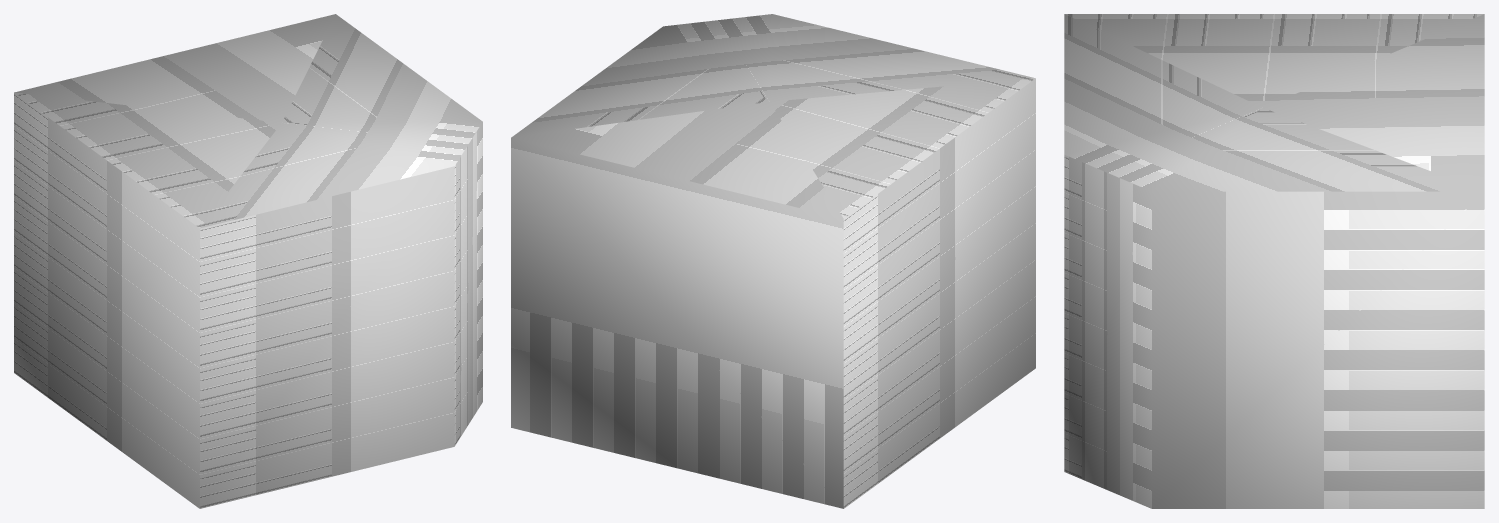
The model's file is 3548IMOT01_21.gltf.
3 views of the same model, side by side, from view 1: azimuth 30°, elevation 25°; view 2: azimuth 150°, elevation 25°; view 3: azimuth 270°, elevation 25° (orthographic). The views are drawn at different scales.
Parts seen in each view (by area): view 1: 3548IMOT01_21; view 2: 3548IMOT01_21; view 3: 3548IMOT01_21.
Boxes of the visible parts, left/top/right/bottom form: 3548IMOT01_21: left=14, top=14, right=482, bottom=508; 3548IMOT01_21: left=511, top=14, right=1035, bottom=508; 3548IMOT01_21: left=1064, top=14, right=1484, bottom=508.
Bounding box in the file's own units: 0.9001 × 0.75 × 0.9001.
Materials: 1 (1 with a texture image).
